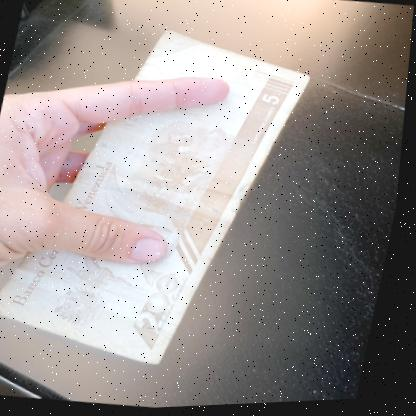five-back-vef: (0, 10, 321, 384)
